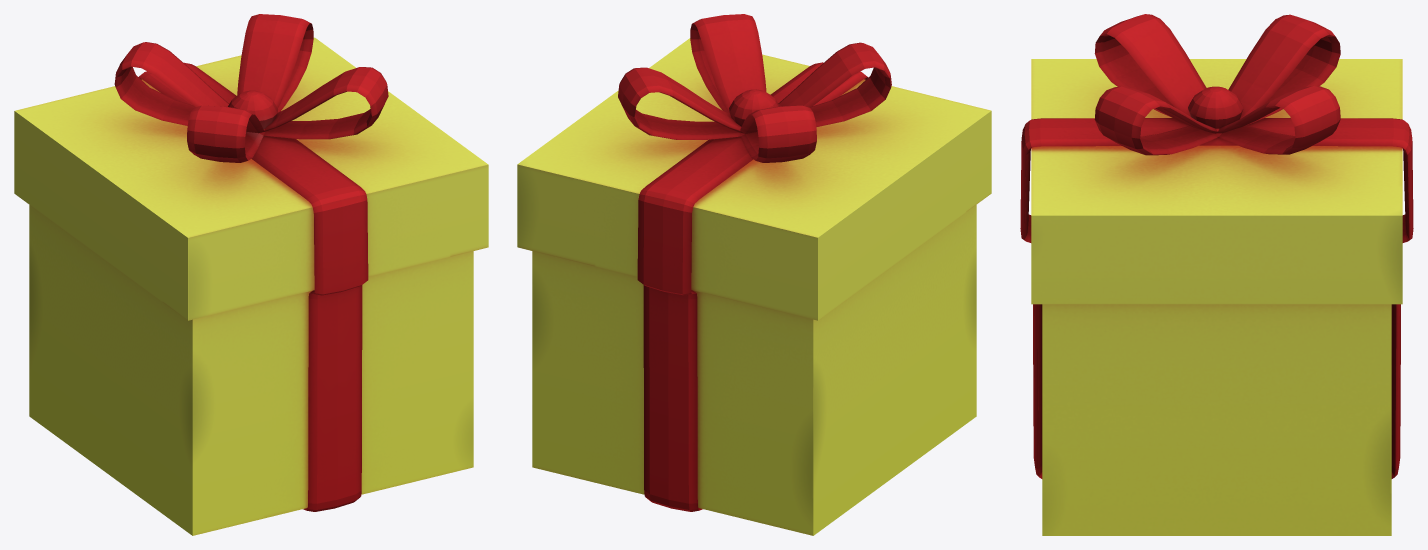
Rendered from PresentBox.FBX.
The picture shows the model from 3 angles, left to right: view 1: azimuth 30°, elevation 25°; view 2: azimuth 150°, elevation 25°; view 3: azimuth 270°, elevation 25°; orthographic projection. The views are drawn at different scales.
Visible parts, largest first — view 1: PresentBox; view 2: PresentBox; view 3: PresentBox.
Part boxes in pixels (x1=…): PresentBox: x1=14, y1=14, x2=488, y2=535; PresentBox: x1=517, y1=14, x2=991, y2=535; PresentBox: x1=1020, y1=14, x2=1413, y2=535.
Bounding box in the file's own units: 3 × 3.7 × 3.18.
